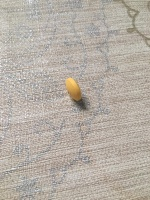Nurofen: (64, 76, 82, 102)
